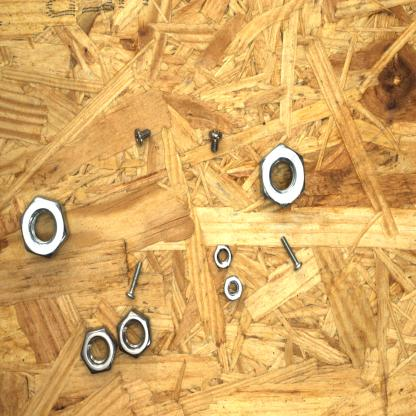screw: (279, 232, 305, 272), (125, 259, 144, 300), (131, 124, 152, 146), (207, 128, 222, 154)
